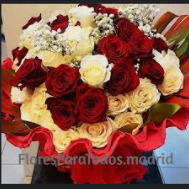RedRose: (77, 86, 115, 126), (43, 62, 82, 96), (43, 97, 78, 128), (104, 59, 136, 90), (98, 33, 134, 59), (18, 56, 43, 89), (140, 57, 165, 82), (136, 35, 160, 56), (116, 16, 134, 36)
